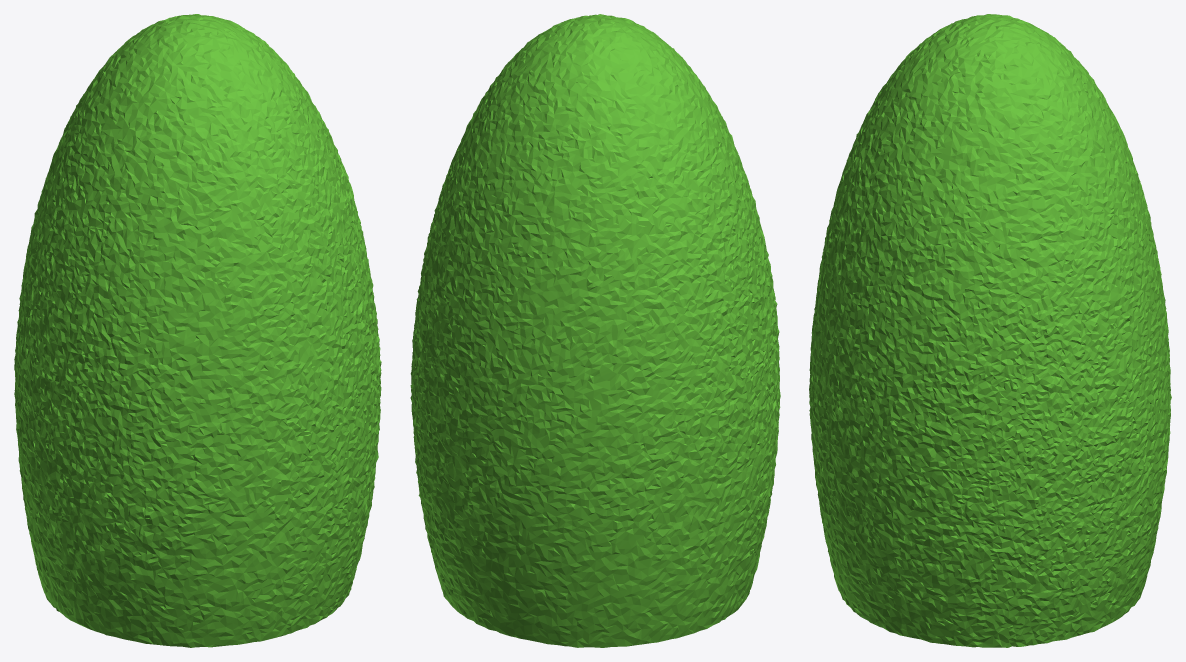
File: Bush_Stock_01_LOD1.glb
3 views of the same model, side by side, from view 1: azimuth 30°, elevation 25°; view 2: azimuth 150°, elevation 25°; view 3: azimuth 270°, elevation 25° (orthographic).
Visible parts, largest first — view 1: Sphere; view 2: Sphere; view 3: Sphere.
Boxes of the visible parts, x1,y1,x2,y2 form: Sphere: (14,14,381,647); Sphere: (410,14,780,647); Sphere: (809,14,1171,647).
Bounding box in the file's own units: 2.05 × 3.44 × 2.01.
